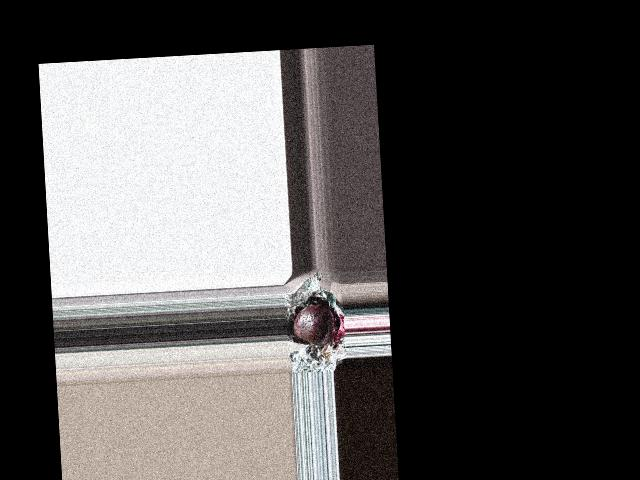beet: (292, 303, 334, 348)
